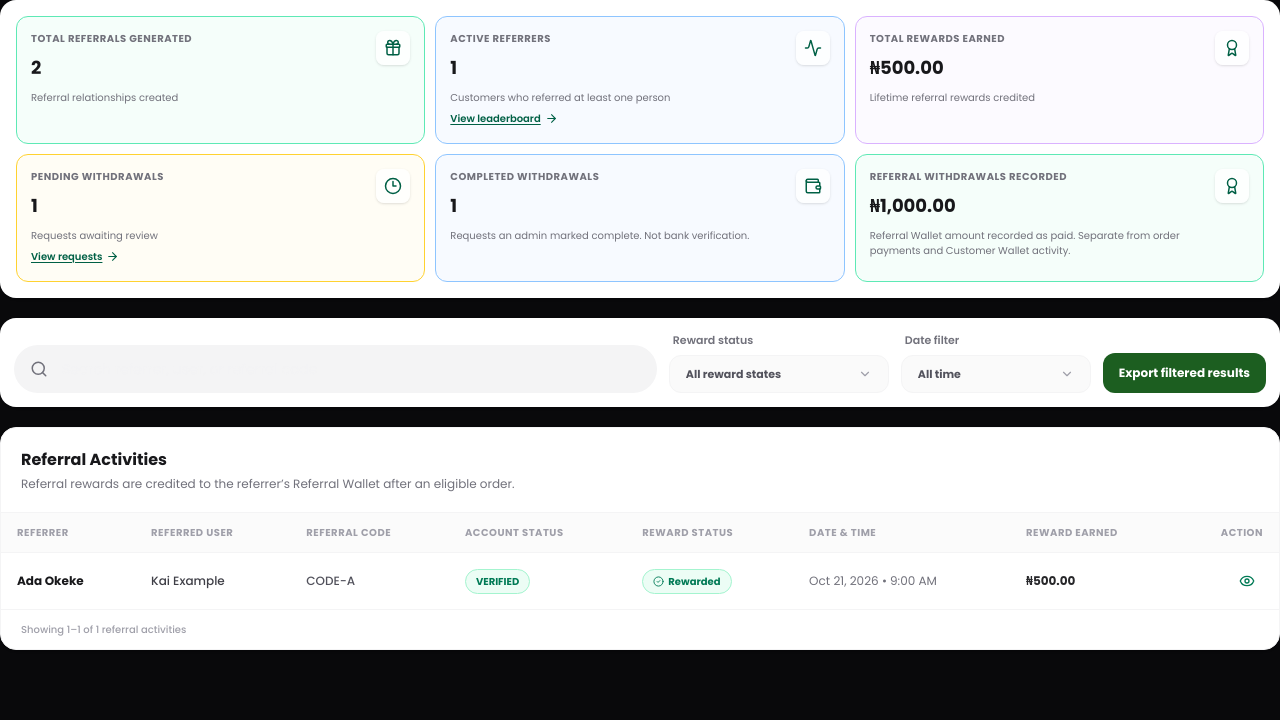
Super Admin referral wallet activities › loads masked withdrawal rows and reveals the full bank account only after opening details
Expected: the text "Kai Example" is shown, x1=135 y1=552 x2=290 y2=609
Click the button with aria-label "View 1 pending referral withdrawals" at (97, 176), box x1=16 y1=154 x2=425 y2=282
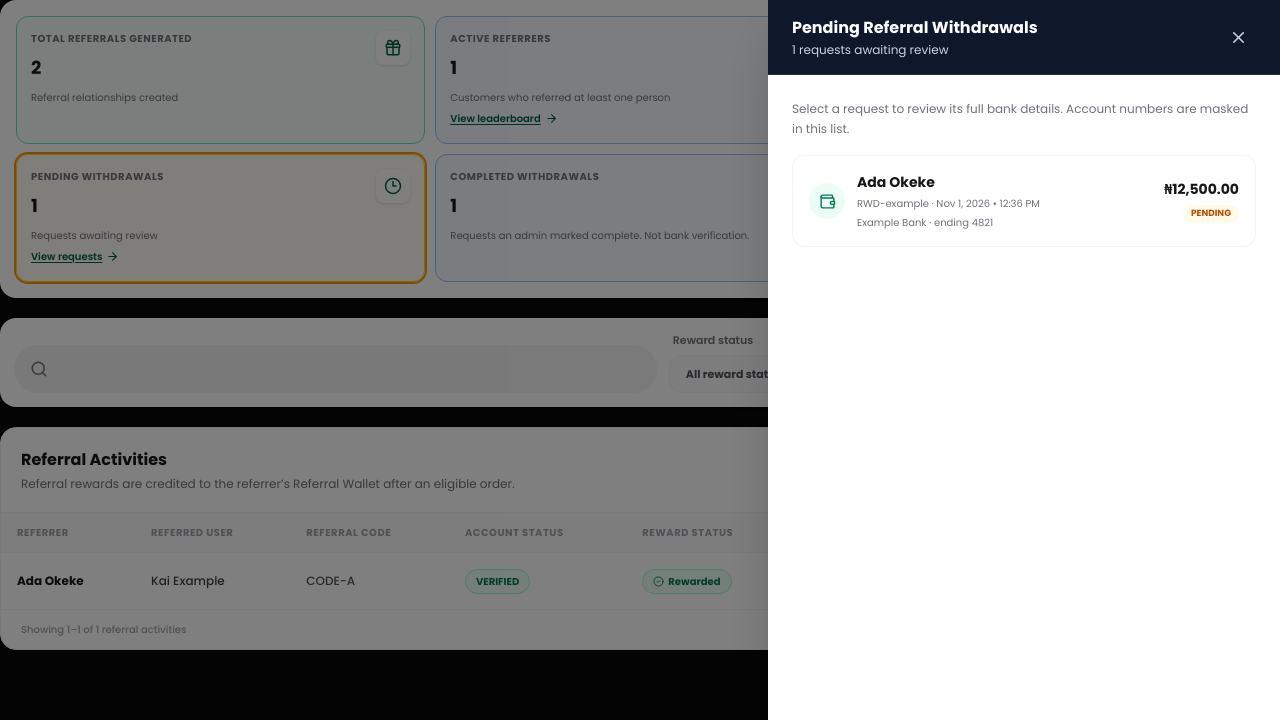
Expected: the text "0123456789" is not shown
Now the text "Example Bank · ending 4821" is shown, box x1=857 y1=215 x2=993 y2=230
Click the button that starts with "Ada Okeke" at (1024, 201), box x1=792 y1=155 x2=1256 y2=247
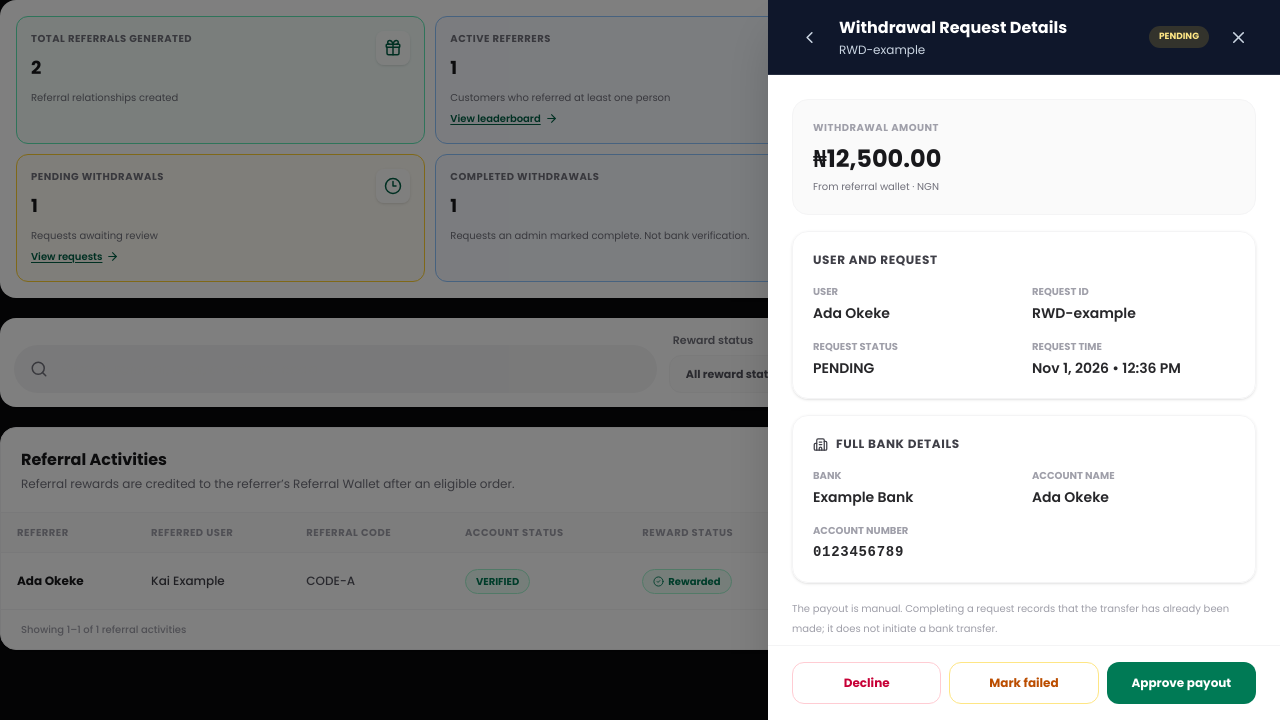
Now the text "0123456789" is shown, box x1=813 y1=544 x2=904 y2=560
